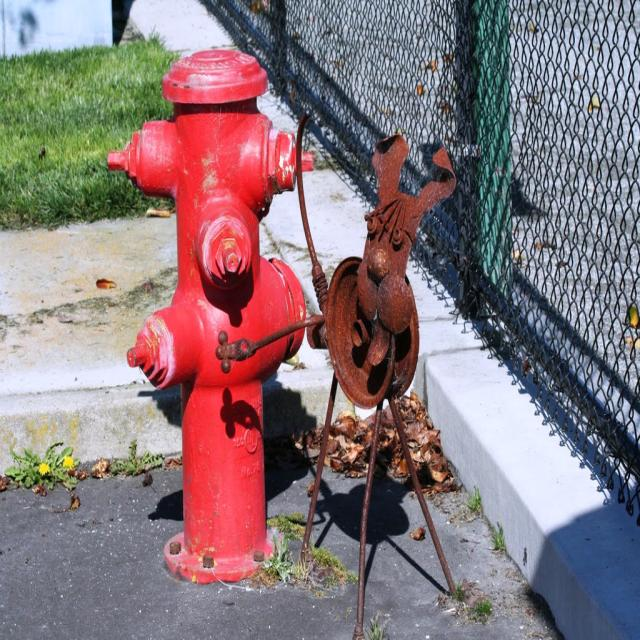fire_hydrant: (108, 47, 316, 583)
